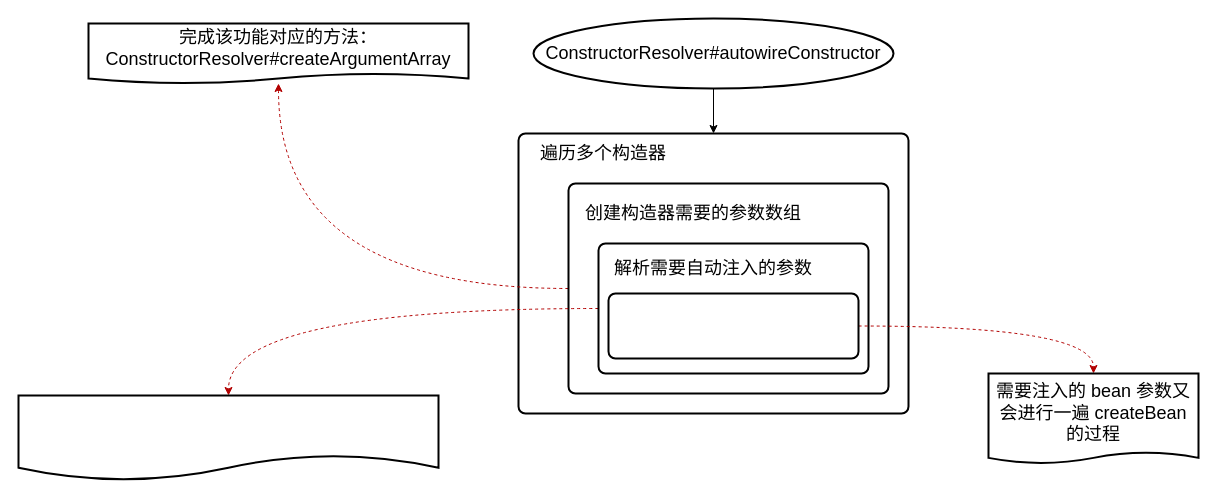
Some shapes in this 1216 by 498 pixel diagram are drawn without their labels. Each missing label, with the box of its shape:
AutowireCapableBeanFactory #resolveDependency: (607, 292, 859, 359)
完成该功能对应的方法： ConstructorResolver#resolveAutowiredArgument: (17, 394, 439, 481)
